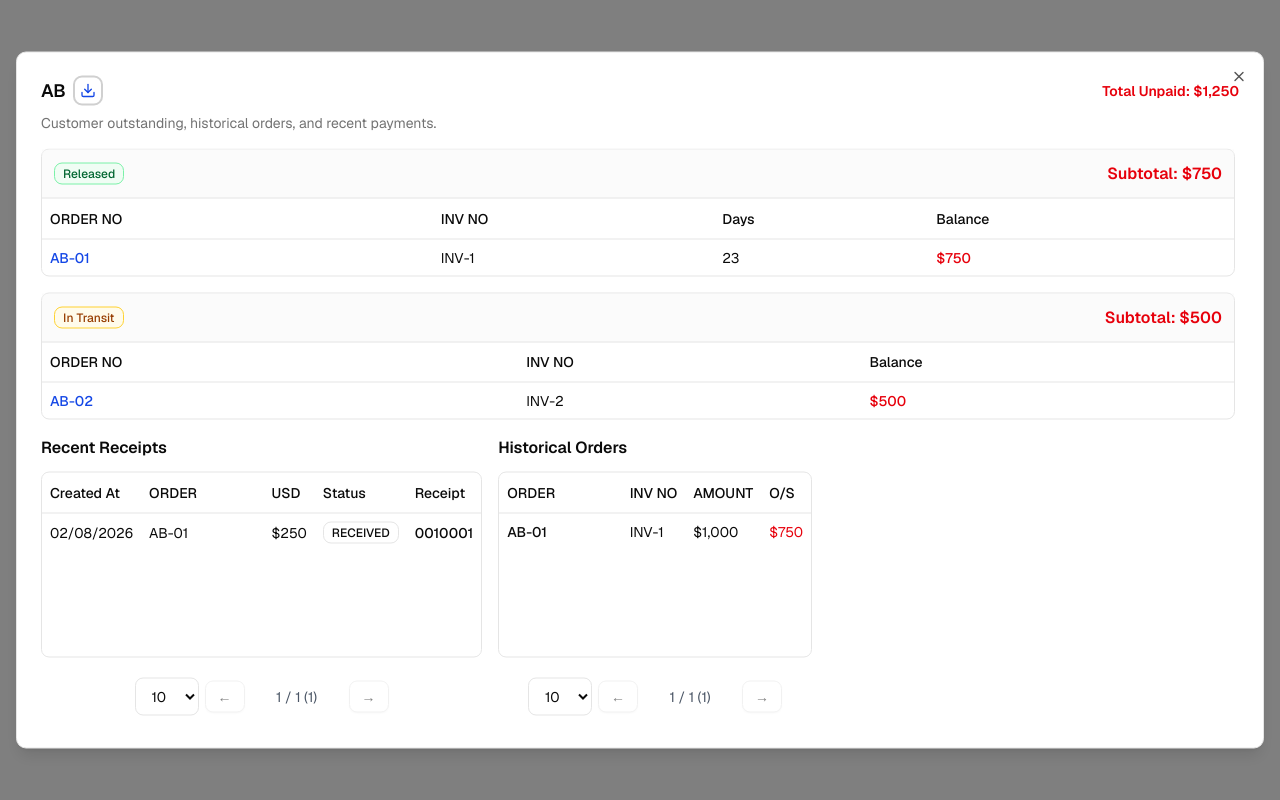
Test: DashboardCustomerDetailDialog › asks for the statement language before exporting
This screenshot has width=1280, height=800.
Click the button named "Download outstanding statement" at [88, 90], box [74, 76, 102, 104]
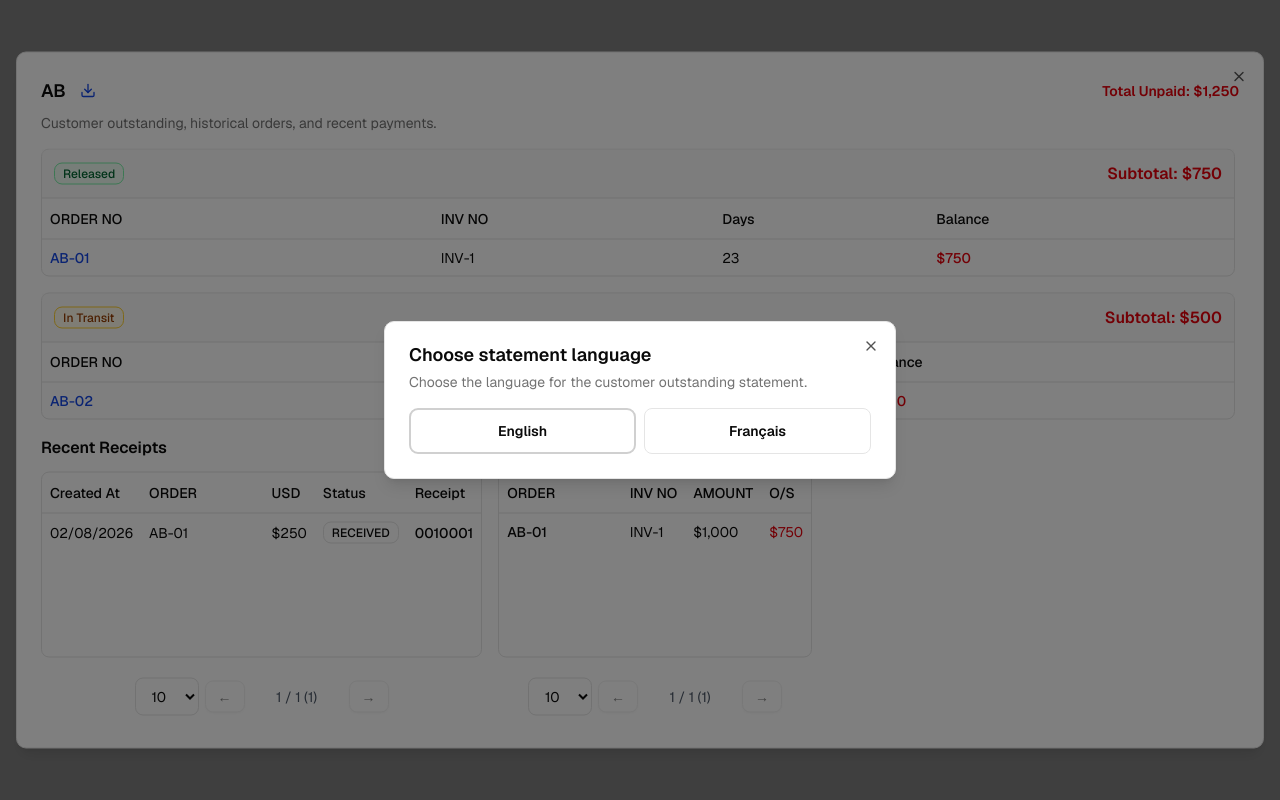
expect the heading "Choose statement language" is shown: met, box [409, 343, 652, 366]
expect the button "English" is shown: met, box [409, 408, 636, 454]
expect the button "Français" is shown: met, box [644, 408, 871, 454]
